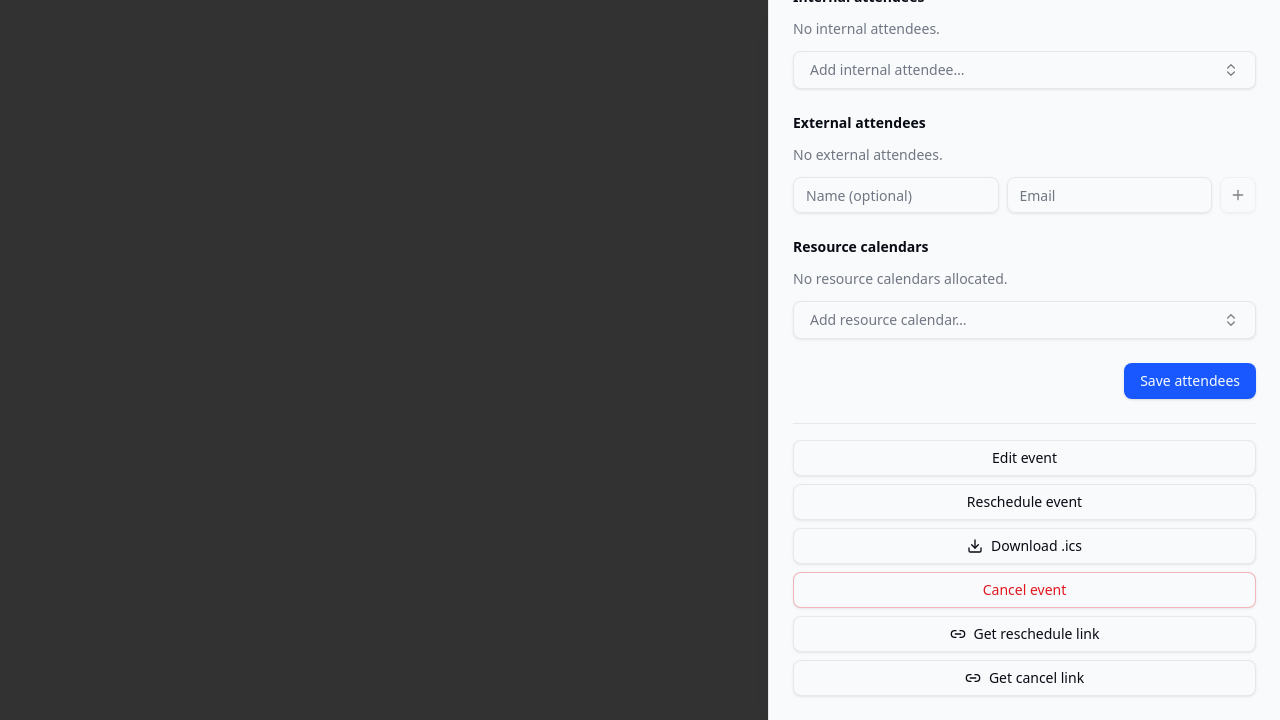
Test: EventAttendeesSheet — booking-link actions › an unauthorized mint's bare {detail} rejection is also surfaced inline on the form, not left toast-only
(page scrolled)
What coordinates should you click on to do the following:
click the button "Get reschedule link"
I would click on:
 (1024, 634)
Its box is [793, 616, 1256, 652].
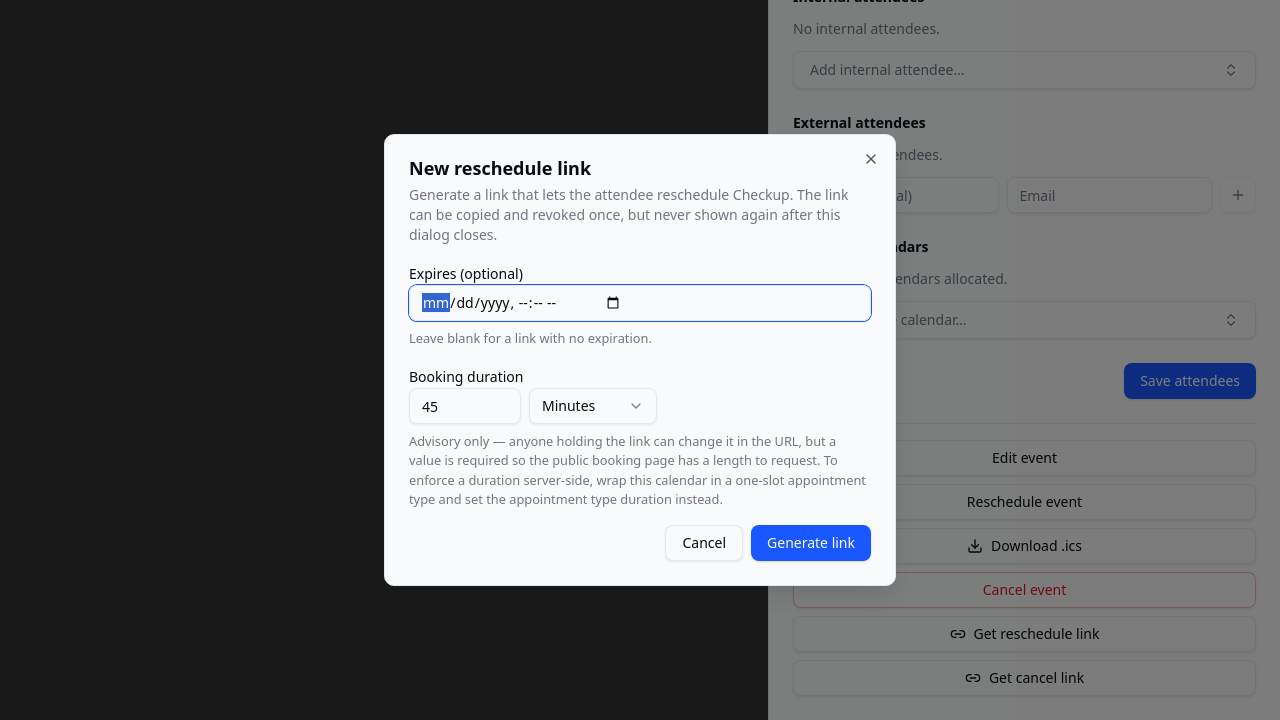
What coordinates should you click on to do the following:
click the button with test id "create-booking-link-submit"
I would click on:
 (811, 543)
Its box is [751, 525, 871, 561].
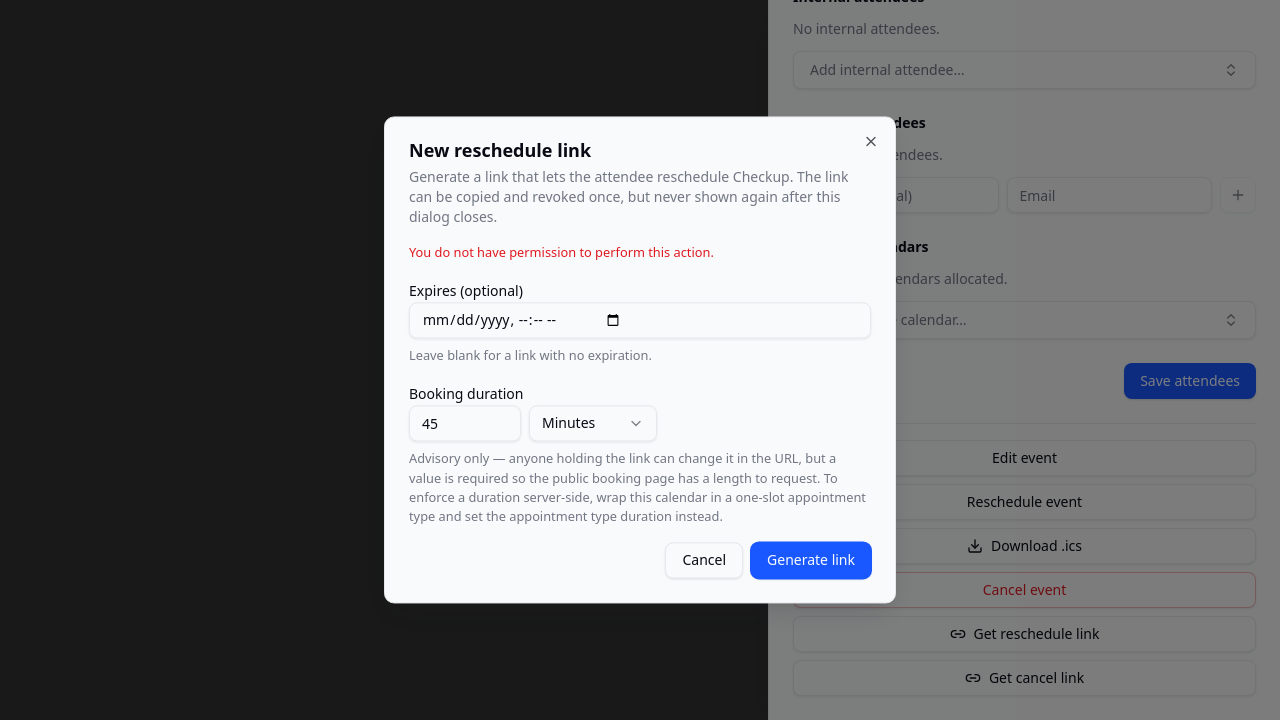
Check: the message reads "You do not have permission to perform this action.", box [409, 243, 714, 261]
